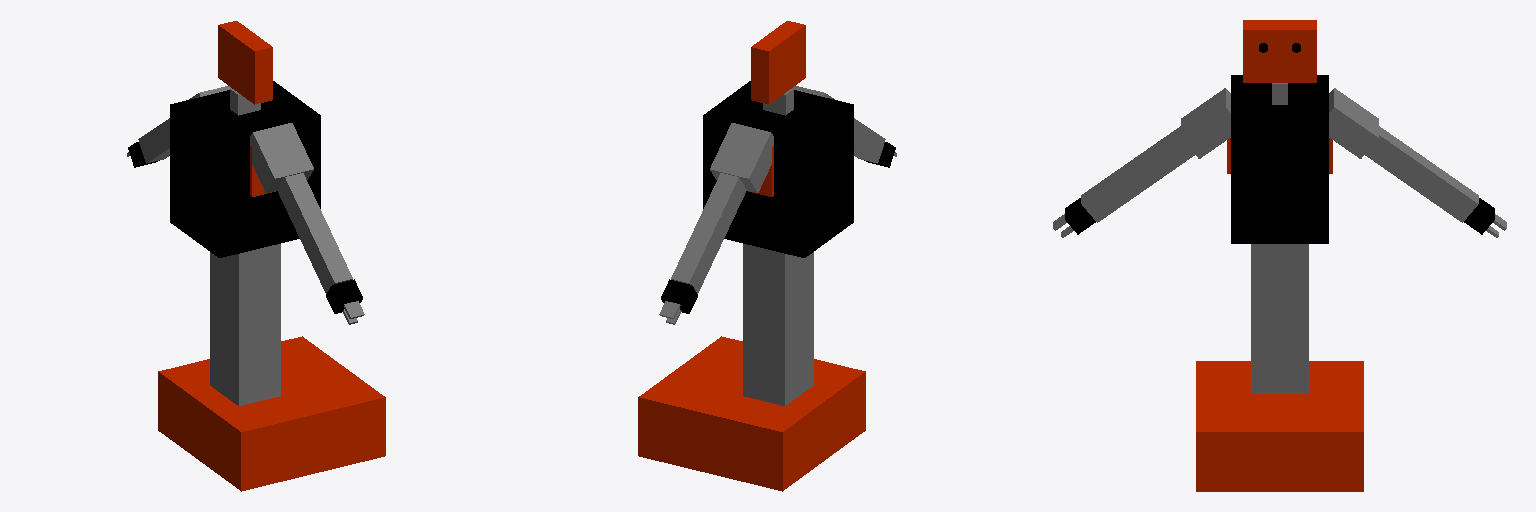
The robot description file, URDF, robot "tangerige":
<?xml version="1.0" ?>
<!-- =================================================================================== -->
<!-- |    This document was autogenerated by xacro from TangerineModel.urdf.xacro      | -->
<!-- |    EDITING THIS FILE BY HAND IS NOT RECOMMENDED                                 | -->
<!-- =================================================================================== -->
<robot name="tangerige" xmlns:xacro="http://www.ros.org/wiki/xacro">
  <!-- .......................MACROS.................... -->
  <!-- ....................... END MACROS.................... -->
  <!-- ................BASE................. -->
  <link name="base_laser">
    <visual>
      <geometry>
        <box size="0.176 0.15 0.4"/>
      </geometry>
      <material name="grey">
        <color rgba="0.5 0.5 0.5 1"/>
      </material>
      <origin rpy="0 0 1.57075"/>
    </visual>
  </link>
  <gazebo reference="base_laser">
    <material>Gazebo/Red</material>
  </gazebo>
  <link name="base_link_robot">
    <visual>
      <geometry>
        <box size="0.51 0.51 0.2"/>
      </geometry>
      <material name="orange">
        <color rgba=".8 .2 0 1"/>
      </material>
    </visual>
  </link>
  <gazebo reference="base_link">
    <material>Gazebo/Red</material>
  </gazebo>
  <joint name="laser_to_base_link" type="fixed">
    <parent link="base_laser"/>
    <child link="base_link_robot"/>
    <origin xyz="0.093 0 -0.3"/>
  </joint>
  <link name="upper_base_laser">
    <visual>
      <geometry>
        <box size="0.176 0.15 0.15"/>
      </geometry>
      <material name="grey"/>
    </visual>
  </link>
  <gazebo reference="upper_base_laser">
    <material>Gazebo/Gray</material>
  </gazebo>
  <joint name="laser_to_upper_base" type="fixed">
    <parent link="base_laser"/>
    <child link="upper_base_laser"/>
    <origin rpy="0 0 -1.57075" xyz="0 0 0.275"/>
  </joint>
  <link name="superior_link">
    <visual>
      <geometry>
        <box size="0.300 0.360 0.4"/>
      </geometry>
      <material name="black">
        <color rgba="0 0 0 1"/>
      </material>
    </visual>
  </link>
  <gazebo reference="superior_link">
    <material>Gazebo/Black</material>
  </gazebo>
  <joint name="upper_base_to_superior_link" type="fixed">
    <parent link="upper_base_laser"/>
    <child link="superior_link"/>
    <origin xyz="0 0 0.275"/>
  </joint>
  <!-- ................END BASE................. -->
  <!-- ................HEAD................. -->
  <link name="neck_link">
    <visual>
      <geometry>
        <box size="0.05 0.08 0.07"/>
      </geometry>
      <material name="grey"/>
    </visual>
  </link>
  <gazebo reference="neck_link">
    <material>Gazebo/Red</material>
  </gazebo>
  <joint name="superior_to_neck_link" type="fixed">
    <parent link="superior_link"/>
    <child link="neck_link"/>
    <origin xyz="0 0 0.235"/>
  </joint>
  <link name="neck_z_revolute">
  </link>
  <!-- These joint are really revolute...change them back! -->
  <joint name="neck_to_z_revolute" type="fixed">
    <axis xyz="0 0 1"/>
    <limit effort="1000.0" lower="-0.7853" upper="0.7853" velocity="5"/>
    <parent link="neck_link"/>
    <child link="neck_z_revolute"/>
  </joint>
  <link name="neck_x_revolute">
  </link>
  <joint name="z_revolute_to_x_revolute" type="fixed">
    <axis xyz="1 0 0"/>
    <limit effort="1000.0" lower="-0.3926" upper="0.3926" velocity="5"/>
    <parent link="neck_z_revolute"/>
    <child link="neck_x_revolute"/>
  </joint>
  <link name="head">
    <visual>
      <geometry>
        <box size="0.222 0.065 0.18"/>
      </geometry>
      <material name="orange"/>
    </visual>
  </link>
  <gazebo reference="head">
    <material>Gazebo/Red</material>
  </gazebo>
  <joint name="revolute_head" type="fixed">
    <parent link="neck_x_revolute"/>
    <child link="head"/>
    <origin xyz="0 0 0.125"/>
  </joint>
  <link name="right_eye">
    <visual>
      <geometry>
        <cylinder length="0.015" radius="0.015"/>
      </geometry>
      <material name="black"/>
      <origin rpy="-1.57075 0 0"/>
    </visual>
  </link>
  <joint name="right_eye_to_head" type="fixed">
    <parent link="head"/>
    <child link="right_eye"/>
    <origin xyz="0.05 0.03 0.03"/>
  </joint>
  <link name="left_eye">
    <visual>
      <geometry>
        <cylinder length="0.015" radius="0.015"/>
      </geometry>
      <material name="black"/>
      <origin rpy="-1.57075 0 0"/>
    </visual>
  </link>
  <joint name="left_eye_to_head" type="fixed">
    <parent link="head"/>
    <child link="left_eye"/>
    <origin xyz="-0.05 0.03 0.03"/>
  </joint>
  <!-- ................END HEAD................. -->
  <!-- ................RIGHT ARM................. -->
  <link name="right_shoulder_link">
    <visual>
      <geometry>
        <box size="0.01 0.14 0.17"/>
      </geometry>
      <origin rpy="0 1.57075 0" xyz="0.05 0 -0.05"/>
      <material name="orange"/>
    </visual>
  </link>
  <gazebo reference="right_shoulder_link">
    <material>Gazebo/Gray</material>
  </gazebo>
  <joint name="superior_link_to_right_shoulder" type="fixed">
    <parent link="superior_link"/>
    <child link="right_shoulder_link"/>
    <origin rpy="0 1.57075 0" xyz="0.205 0 0.12"/>
  </joint>
  <link name="right_shoulder_x_revolute">   
  </link>
  <gazebo reference="right_shoulder_x_revolute">
    <material>Gazebo/Gray</material>
  </gazebo>
  <joint name="right_shoulder_x_revolute" type="revolute">
    <axis xyz="0 0 1"/>
    <limit effort="1000.0" lower="-0.34906585" upper="3.351032164" velocity="5"/>
    <parent link="right_shoulder_link"/>
    <child link="right_shoulder_x_revolute"/>
    <origin rpy="0 0 0" xyz="0 0 0"/>
  </joint>
  <link name="right_shoulder_y_revolute">
    <visual>
      <geometry>
        <box size="0.09 0.17 0.14"/>
      </geometry>
      <origin rpy="0 0 0" xyz="0 0 0"/>
      <material name="grey"/>
    </visual>
  </link>
  <joint name="right_shoulder_y_revolute" type="revolute">
    <axis xyz="0 0 1"/>
    <limit effort="1000.0" lower="-3.490658504" upper="-1.483529864" velocity="5"/>
    <parent link="right_shoulder_x_revolute"/>
    <child link="right_shoulder_y_revolute"/>
    <origin rpy="-1.57075 0 0" xyz="0 0 0"/>
  </joint>
  <link name="upper_right_arm_z_revolute">
    <visual>
      <geometry>
        <box size="0.08 0.065 -0.154"/>
      </geometry>
      <origin rpy="0 0 0" xyz="0 0 -0.077"/>
      <material name="grey"/>
    </visual>
  </link>
  <joint name="upper_right_arm_z_revolute" type="revolute">
    <axis xyz="0 0 1"/>
    <limit effort="1000.0" lower="-3.403392041" upper="0.261799388" velocity="5"/>
    <parent link="right_shoulder_y_revolute"/>
    <child link="upper_right_arm_z_revolute"/>
    <origin rpy="-1.57075 0 0" xyz="0 0.239 0"/>
  </joint>
  <link name="upper_right_arm_x_revolute">
    <visual>
      <geometry>
        <box size="0.08 0.232 0.065"/>
      </geometry>
      <origin rpy="0 0 0" xyz="0 0.116 0"/>
      <material name="grey"/>
    </visual>
  </link>
  <gazebo reference="upper_right_arm_x_revolute">
    <material>Gazebo/Gray</material>
  </gazebo>
  <joint name="upper_right_arm_x_revolute" type="revolute">
    <axis xyz="0 0 1"/>
    <limit effort="1000.0" lower="-2.251474735" upper="1.570796327" velocity="0"/>
    <parent link="upper_right_arm_z_revolute"/>
    <child link="upper_right_arm_x_revolute"/>
    <origin rpy="1.57075 0 0" xyz="0 0 0"/>
  </joint>
  <link name="wrist_right_arm_z_revolute">
  </link>
  <joint name="wrist_right_arm_z_revolute" type="revolute">
    <axis xyz="0 0 1"/>
    <limit effort="1000.0" lower="0" upper="3.141592654" velocity="5"/>
    <parent link="upper_right_arm_x_revolute"/>
    <child link="wrist_right_arm_z_revolute"/>
    <origin rpy="-1.57075 0 0" xyz="0 0.232 0"/>
  </joint>
  <link name="wrist_right_arm_x_revolute">
  </link>
  <joint name="wrist_right_arm_x_revolute" type="revolute">
    <axis xyz="0 0 1"/>
    <limit effort="1000.0" lower="-1.047197551" upper="1.483529864" velocity="5"/>
    <parent link="wrist_right_arm_z_revolute"/>
    <child link="wrist_right_arm_x_revolute"/>
    <origin rpy="1.57075 0 0" xyz="0 0 0"/>
  </joint>
  <link name="wrist_right_arm">
    <visual>
      <geometry>
        <box size="0.065 0.069 0.08"/>
      </geometry>
      <origin rpy="0 0 0" xyz="0 -0.0345 0"/>
      <material name="black"/>
    </visual>
  </link>
  <gazebo reference="wrist_right_arm">
    <material>Gazebo/Black</material>
  </gazebo>
  <joint name="wrist_right_arm" type="fixed">
    <parent link="wrist_right_arm_x_revolute"/>
    <child link="wrist_right_arm"/>
    <origin xyz="0 0.069 0"/>
  </joint>
  <link name="finger1_right_arm">
    <visual>
      <geometry>
        <box size="0.01 0.05 0.03"/>
      </geometry>
      <origin xyz="0 0.025 0"/>
      <material name="grey"/>
    </visual>
  </link>
  <gazebo reference="finger1_right_arm">
    <material>Gazebo/Gray</material>
  </gazebo>
  <joint name="finger1_right_arm" type="fixed">
    <parent link="wrist_right_arm"/>
    <child link="finger1_right_arm"/>
    <origin rpy="0 0 0" xyz="-0.01875 0 0"/>
  </joint>
  <link name="finger2_right_arm">
    <visual>
      <geometry>
        <box size="0.01 0.05 0.05"/>
      </geometry>
      <origin xyz="0 0.025 0"/>
      <material name="grey"/>
    </visual>
  </link>
  <gazebo reference="finger2_right_arm">
    <material>Gazebo/Gray</material>
  </gazebo>
  <joint name="finger2_right_arm" type="fixed">
    <parent link="wrist_right_arm"/>
    <child link="finger2_right_arm"/>
    <origin rpy="0 0 0" xyz="0.01875 0 0"/>
  </joint>
  <!-- ................END RIGHT ARM................. -->
  <!-- ................LEFT ARM................. -->
  <link name="left_shoulder_link">
    <visual>
      <geometry>
        <box size="0.01 0.14 0.17"/>
      </geometry>
      <origin rpy="0 1.57075 0" xyz="0.05 0 0.05"/>
      <material name="orange"/>
    </visual>
  </link>
  <gazebo reference="left_shoulder_link">
    <material>Gazebo/Gray</material>
  </gazebo>
  <joint name="superior_link_to_left_shoulder" type="fixed">
    <parent link="superior_link"/>
    <child link="left_shoulder_link"/>
    <origin rpy="0 1.57075 0" xyz="-0.205 0 0.12"/>
  </joint>
  <link name="left_shoulder_x_revolute">   
  </link>
  <gazebo reference="left_shoulder_x_revolute">
    <material>Gazebo/Gray</material>
  </gazebo>
  <joint name="left_shoulder_x_revolute" type="revolute">
    <axis xyz="0 0 1"/>
    <limit effort="1000.0" lower="-0.34906585" upper="3.351032164" velocity="5"/>
    <parent link="left_shoulder_link"/>
    <child link="left_shoulder_x_revolute"/>
    <origin rpy="0 0 0" xyz="0 0 0"/>
  </joint>
  <link name="left_shoulder_y_revolute">
    <visual>
      <geometry>
        <box size="0.09 0.17 0.14"/>
      </geometry>
      <origin rpy="0 0 0" xyz="0 0 0"/>
      <material name="grey"/>
    </visual>
  </link>
  <joint name="left_shoulder_y_revolute" type="revolute">
    <axis xyz="0 0 1"/>
    <limit effort="1000.0" lower="-3.490658504" upper="-1.483529864" velocity="5"/>
    <parent link="left_shoulder_x_revolute"/>
    <child link="left_shoulder_y_revolute"/>
    <origin rpy="1.57075 0 0" xyz="0 0 0"/>
  </joint>
  <link name="upper_left_arm_z_revolute">
    <visual>
      <geometry>
        <box size="0.08 0.065 -0.154"/>
      </geometry>
      <origin rpy="0 0 0" xyz="0 0 0.077"/>
      <material name="grey"/>
    </visual>
  </link>
  <joint name="upper_left_arm_z_revolute" type="revolute">
    <axis xyz="0 0 1"/>
    <limit effort="1000.0" lower="-3.403392041" upper="0.261799388" velocity="5"/>
    <parent link="left_shoulder_y_revolute"/>
    <child link="upper_left_arm_z_revolute"/>
    <origin rpy="1.57075 0 0" xyz="0 0.239 0"/>
  </joint>
  <link name="upper_left_arm_x_revolute">
    <visual>
      <geometry>
        <box size="0.08 0.232 0.065"/>
      </geometry>
      <origin rpy="0 0 0" xyz="0 0.116 0"/>
      <material name="grey"/>
    </visual>
  </link>
  <gazebo reference="upper_left_arm_x_revolute">
    <material>Gazebo/Gray</material>
  </gazebo>
  <joint name="upper_left_arm_x_revolute" type="revolute">
    <axis xyz="0 0 1"/>
    <limit effort="1000.0" lower="-2.251474735" upper="1.570796327" velocity="0"/>
    <parent link="upper_left_arm_z_revolute"/>
    <child link="upper_left_arm_x_revolute"/>
    <origin rpy="-1.57075 0 0" xyz="0 0 0"/>
  </joint>
  <link name="wrist_left_arm_z_revolute">
  </link>
  <joint name="wrist_left_arm_z_revolute" type="revolute">
    <axis xyz="0 0 1"/>
    <limit effort="1000.0" lower="0" upper="3.141592654" velocity="5"/>
    <parent link="upper_left_arm_x_revolute"/>
    <child link="wrist_left_arm_z_revolute"/>
    <origin rpy="1.57075 0 0" xyz="0 0.232 0"/>
  </joint>
  <link name="wrist_left_arm_x_revolute">
  </link>
  <joint name="wrist_left_arm_x_revolute" type="revolute">
    <axis xyz="0 0 1"/>
    <limit effort="1000.0" lower="-1.047197551" upper="1.483529864" velocity="5"/>
    <parent link="wrist_left_arm_z_revolute"/>
    <child link="wrist_left_arm_x_revolute"/>
    <origin rpy="-1.57075 0 0" xyz="0 0 0"/>
  </joint>
  <link name="wrist_left_arm">
    <visual>
      <geometry>
        <box size="0.065 0.069 0.08"/>
      </geometry>
      <origin rpy="0 0 0" xyz="0 -0.0345 0"/>
      <material name="black"/>
    </visual>
  </link>
  <gazebo reference="wrist_left_arm">
    <material>Gazebo/Black</material>
  </gazebo>
  <joint name="wrist_left_arm" type="fixed">
    <parent link="wrist_left_arm_x_revolute"/>
    <child link="wrist_left_arm"/>
    <origin xyz="0 0.069 0"/>
  </joint>
  <link name="finger1_left_arm">
    <visual>
      <geometry>
        <box size="0.01 0.05 0.03"/>
      </geometry>
      <origin xyz="0 0.025 0"/>
      <material name="grey"/>
    </visual>
  </link>
  <gazebo reference="finger1_left_arm">
    <material>Gazebo/Gray</material>
  </gazebo>
  <joint name="finger1_left_arm" type="fixed">
    <parent link="wrist_left_arm"/>
    <child link="finger1_left_arm"/>
    <origin rpy="0 0 0" xyz="-0.01875 0 0"/>
  </joint>
  <link name="finger2_left_arm">
    <visual>
      <geometry>
        <box size="0.01 0.05 0.05"/>
      </geometry>
      <origin xyz="0 0.025 0"/>
      <material name="grey"/>
    </visual>
  </link>
  <gazebo reference="finger2_left_arm">
    <material>Gazebo/Gray</material>
  </gazebo>
  <joint name="finger2_left_arm" type="fixed">
    <parent link="wrist_left_arm"/>
    <child link="finger2_left_arm"/>
    <origin rpy="0 0 0" xyz="0.01875 0 0"/>
  </joint>
  <!-- ................END LEFT ARM................. -->
</robot>

--- What the picture shows (computed from the rendered views, not written in the file) ---
3 views of the same robot in one strip: view 1: azimuth 30°, elevation 25°; view 2: azimuth 150°, elevation 25°; view 3: azimuth 270°, elevation 25° (orthographic).
Model tangerige with 30 links and 29 joints (12 revolute, 17 fixed), rooted at base_laser, posed all joints at 0 but 2 set to mid-range because 0 is outside their limits (right_shoulder_y_revolute = -2.49, left_shoulder_y_revolute = -2.49).
Visible links, largest first — view 1: base_link_robot, superior_link, base_laser, head, right_shoulder_y_revolute, upper_right_arm_x_revolute, upper_base_laser, upper_right_arm_z_revolute, upper_left_arm_x_revolute, wrist_right_arm; view 2: base_link_robot, superior_link, base_laser, head, left_shoulder_y_revolute, upper_left_arm_x_revolute, upper_base_laser, upper_left_arm_z_revolute, upper_right_arm_x_revolute, wrist_left_arm; view 3: base_link_robot, superior_link, base_laser, head, upper_right_arm_x_revolute, upper_left_arm_x_revolute, right_shoulder_y_revolute, left_shoulder_y_revolute, upper_base_laser, upper_right_arm_z_revolute, upper_left_arm_z_revolute, wrist_right_arm (+1 smaller).
Boxes of the visible links, <box> form: base_link_robot: <box>158,336,385,491</box>; superior_link: <box>170,81,320,257</box>; base_laser: <box>210,267,280,405</box>; head: <box>218,21,272,104</box>; right_shoulder_y_revolute: <box>250,123,313,192</box>; upper_right_arm_x_revolute: <box>297,215,352,293</box>; upper_base_laser: <box>210,244,280,287</box>; upper_right_arm_z_revolute: <box>277,173,322,231</box>; upper_left_arm_x_revolute: <box>138,120,169,163</box>; wrist_right_arm: <box>326,279,362,313</box>; base_link_robot: <box>638,336,865,491</box>; superior_link: <box>703,81,853,257</box>; base_laser: <box>743,267,813,405</box>; head: <box>751,21,805,104</box>; left_shoulder_y_revolute: <box>710,123,773,192</box>; upper_left_arm_x_revolute: <box>671,215,726,293</box>; upper_base_laser: <box>743,244,813,287</box>; upper_left_arm_z_revolute: <box>701,173,746,231</box>; upper_right_arm_x_revolute: <box>854,120,885,163</box>; wrist_left_arm: <box>661,279,697,313</box>; base_link_robot: <box>1196,361,1363,491</box>; superior_link: <box>1231,75,1328,243</box>; base_laser: <box>1251,274,1308,393</box>; head: <box>1243,20,1316,82</box>; upper_right_arm_x_revolute: <box>1081,153,1157,222</box>; upper_left_arm_x_revolute: <box>1402,153,1478,222</box>; right_shoulder_y_revolute: <box>1181,88,1230,158</box>; left_shoulder_y_revolute: <box>1329,88,1378,158</box>; upper_base_laser: <box>1251,244,1308,273</box>; upper_right_arm_z_revolute: <box>1142,126,1194,180</box>; upper_left_arm_z_revolute: <box>1365,126,1417,180</box>; wrist_right_arm: <box>1065,198,1095,234</box>.
Bounding box of the posed robot: 0.528 × 1.38 × 1.4 m (x, y, z).
Geometry: primitives only (box / cylinder / sphere), no mesh files.